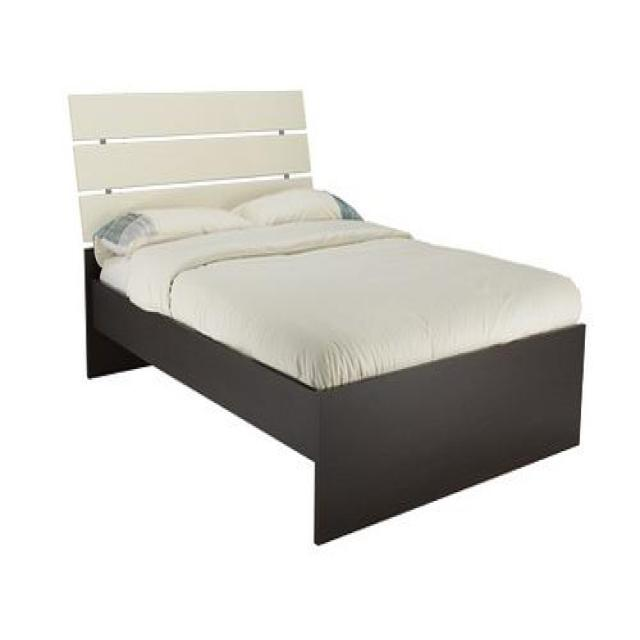bed: (66, 88, 586, 546)
